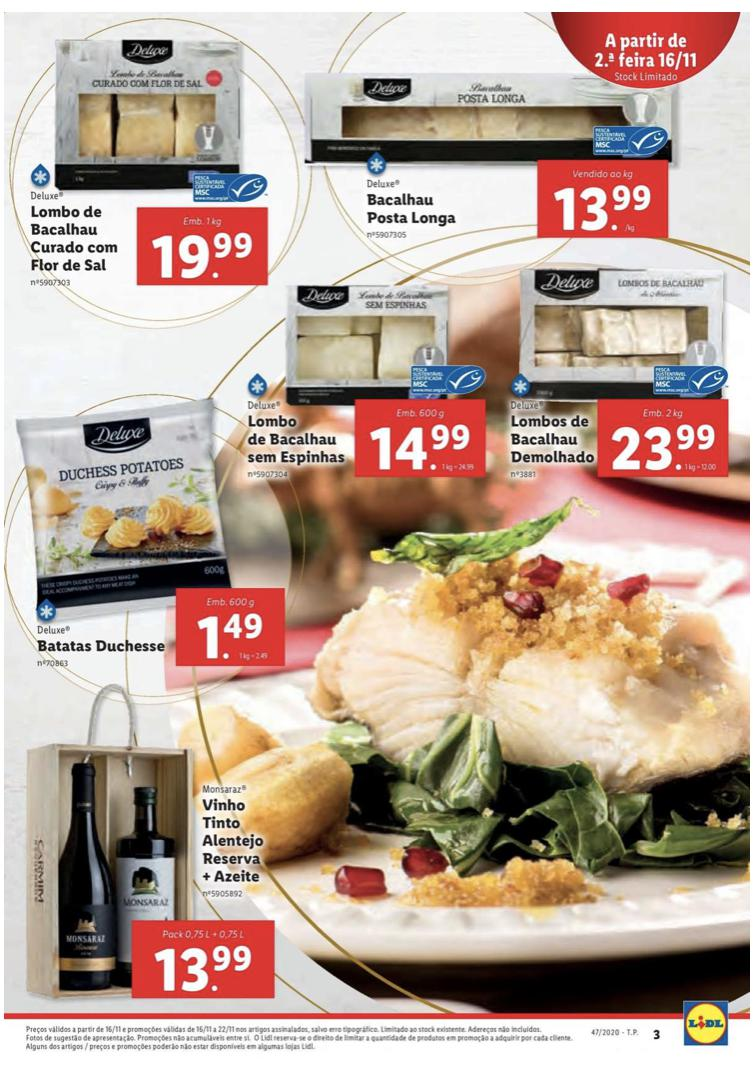name: (194, 784, 271, 890), (23, 202, 125, 274), (239, 410, 351, 470), (502, 409, 599, 470), (362, 188, 462, 232), (33, 632, 165, 657)
price: (138, 921, 271, 1000), (601, 404, 730, 478), (137, 213, 267, 286), (539, 164, 670, 236), (366, 406, 487, 477), (190, 593, 271, 664)
product: (293, 37, 699, 241), (17, 710, 285, 1004), (6, 26, 282, 294), (9, 393, 269, 674), (495, 253, 741, 481), (239, 276, 495, 478)
